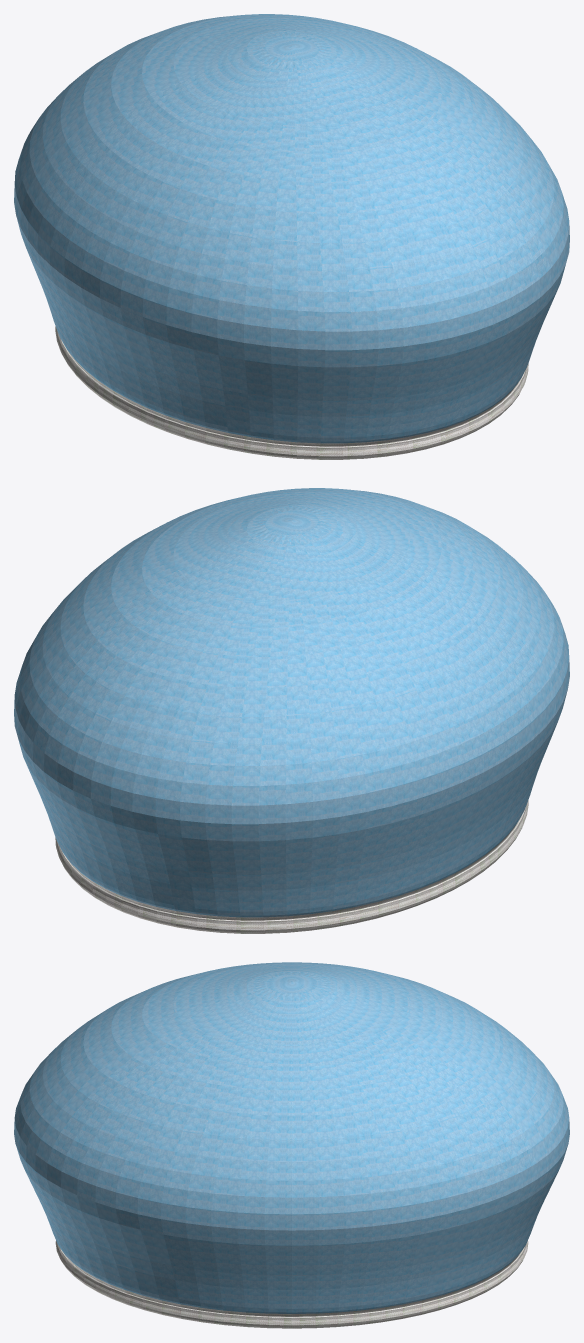
Rendered from Gorro.dae.
The picture shows the model from 3 angles, top to bottom: view 1: azimuth 30°, elevation 25°; view 2: azimuth 150°, elevation 25°; view 3: azimuth 270°, elevation 25°; orthographic projection. The views are drawn at different scales.
Parts seen in each view (by area): view 1: skpD41C (×2); view 2: skpD41C (×2); view 3: skpD41C (×2).
Part boxes in pixels (x1,y1,x2,y2): skpD41C (×2): (14, 14, 569, 459); skpD41C (×2): (14, 488, 569, 933); skpD41C (×2): (14, 962, 569, 1328).
Bounding box in the file's own units: 6.96 × 8.45 × 4.46.
Materials: 2 (2 with a texture image).
